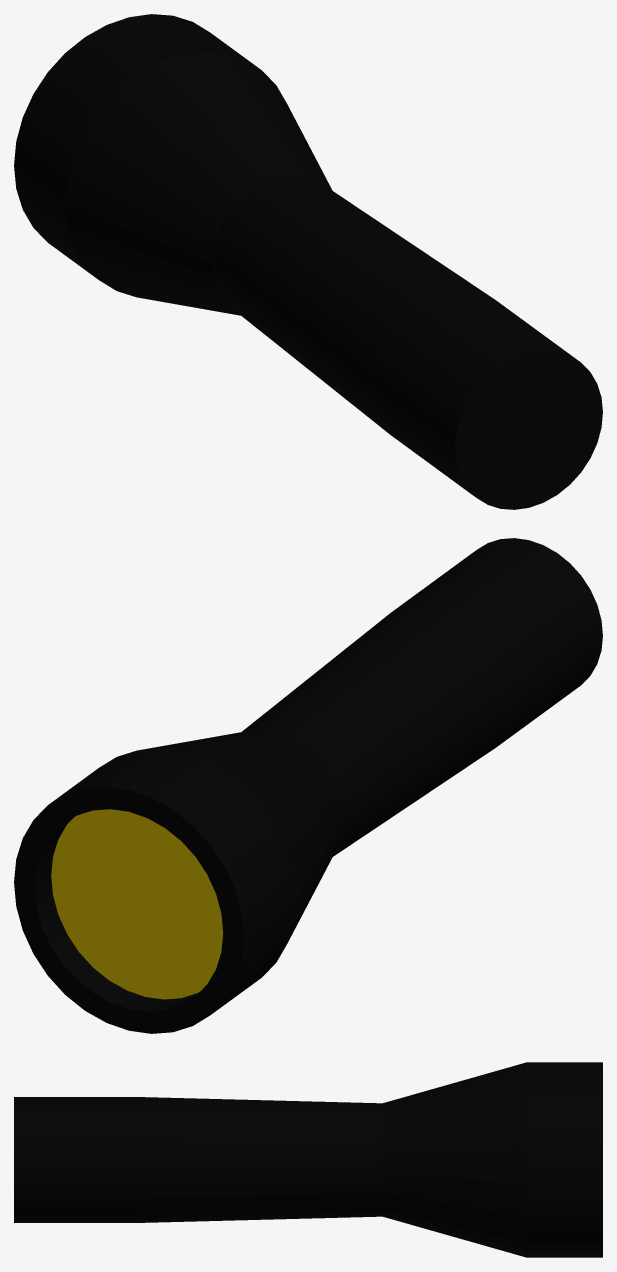
File: linterna.glb
The picture shows the model from 3 angles, top to bottom: view 1: azimuth 30°, elevation 25°; view 2: azimuth 150°, elevation 25°; view 3: azimuth 270°, elevation 25°; orthographic projection. The views are drawn at different scales.
Visible parts, largest first — view 1: linterna; view 2: linterna; view 3: linterna.
Boxes of the visible parts, <box> form: linterna: <box>14,14,602,509</box>; linterna: <box>14,538,602,1033</box>; linterna: <box>14,1062,602,1257</box>.
Size of the model in its own units: 0.0762 by 0.0762 by 0.2293.
